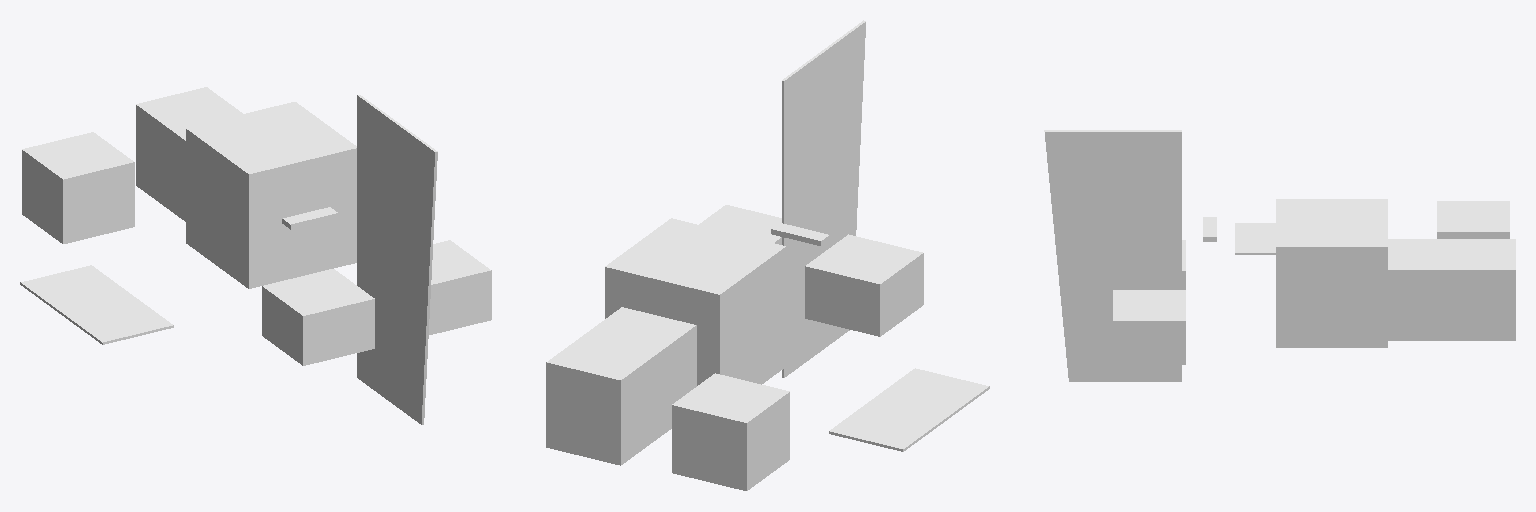
The robot description file, URDF, robot "cubeWorld":
<?xml version="1.0"?>
<robot name="cubeWorld">
  <link name="base_link">
    <visual>
      <origin xyz="0 0 0"/>
      <geometry>
        <mesh filename="package://hpp_environments/meshes/multicontact/cubeWorld3.stl"/>
      </geometry>
      <material name="white">
        <color rgba="1 1 1 1"/>
      </material>
    </visual>
    <collision>
      <origin xyz="0 0 0"/>
      <geometry>
        <mesh filename="package://hpp_environments/meshes/multicontact/cubeWorld3.stl"/>
      </geometry>
    </collision>
  </link>
</robot>

--- Facts derived from the render (not from the file) ---
The picture shows the robot from 3 angles, left to right: view 1: azimuth 30°, elevation 25°; view 2: azimuth 150°, elevation 25°; view 3: azimuth 270°, elevation 25°; orthographic projection.
Model cubeWorld with 1 links and 0 joints (none), rooted at base_link, posed every joint at zero.
Links seen in each view (by area): view 1: base_link; view 2: base_link; view 3: base_link.
Link boxes in pixels (left/top/right/bottom): base_link: left=20, top=87, right=491, bottom=424; base_link: left=546, top=20, right=989, bottom=490; base_link: left=1044, top=130, right=1515, bottom=381.
Size in the robot's own frame: 13.4 by 19.34 by 11.32 metres.
1 mesh visuals loaded from 1 distinct referenced files (1 binary STL).